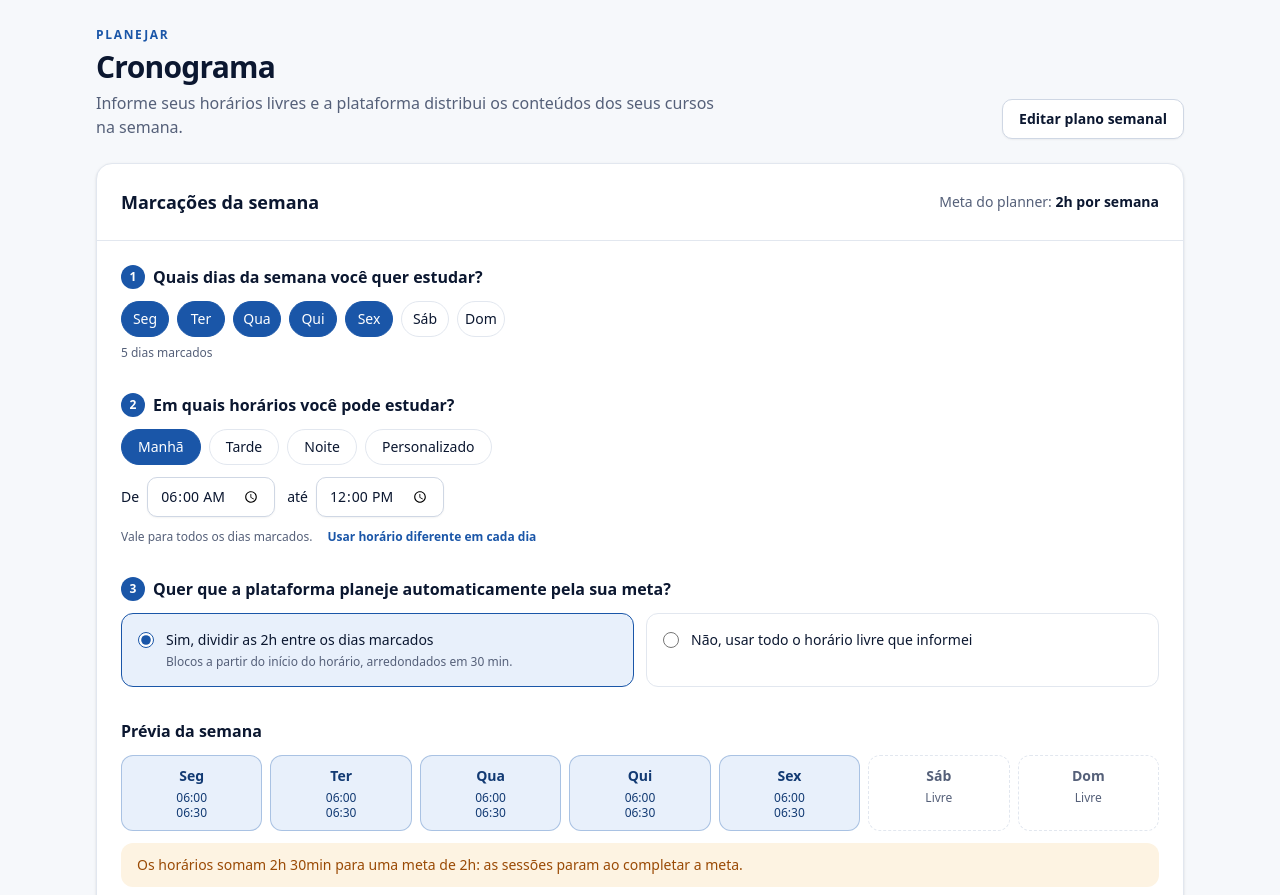
Test case: TelaCronograma › marcacoes: escolhe dias e horario e planeja pela meta
Expected: the heading "Marcações da semana" is shown, x1=121 y1=188 x2=319 y2=216
Expected: the list item with aria-label "Sexta-feira: 06:00 às 06:30" is shown, x1=719 y1=755 x2=860 y2=831
What coordinates should you click on to do the following:
click the button with aria-label "Terça-feira"
I would click on:
 (201, 319)
Its box is x1=177 y1=301 x2=225 y2=337.
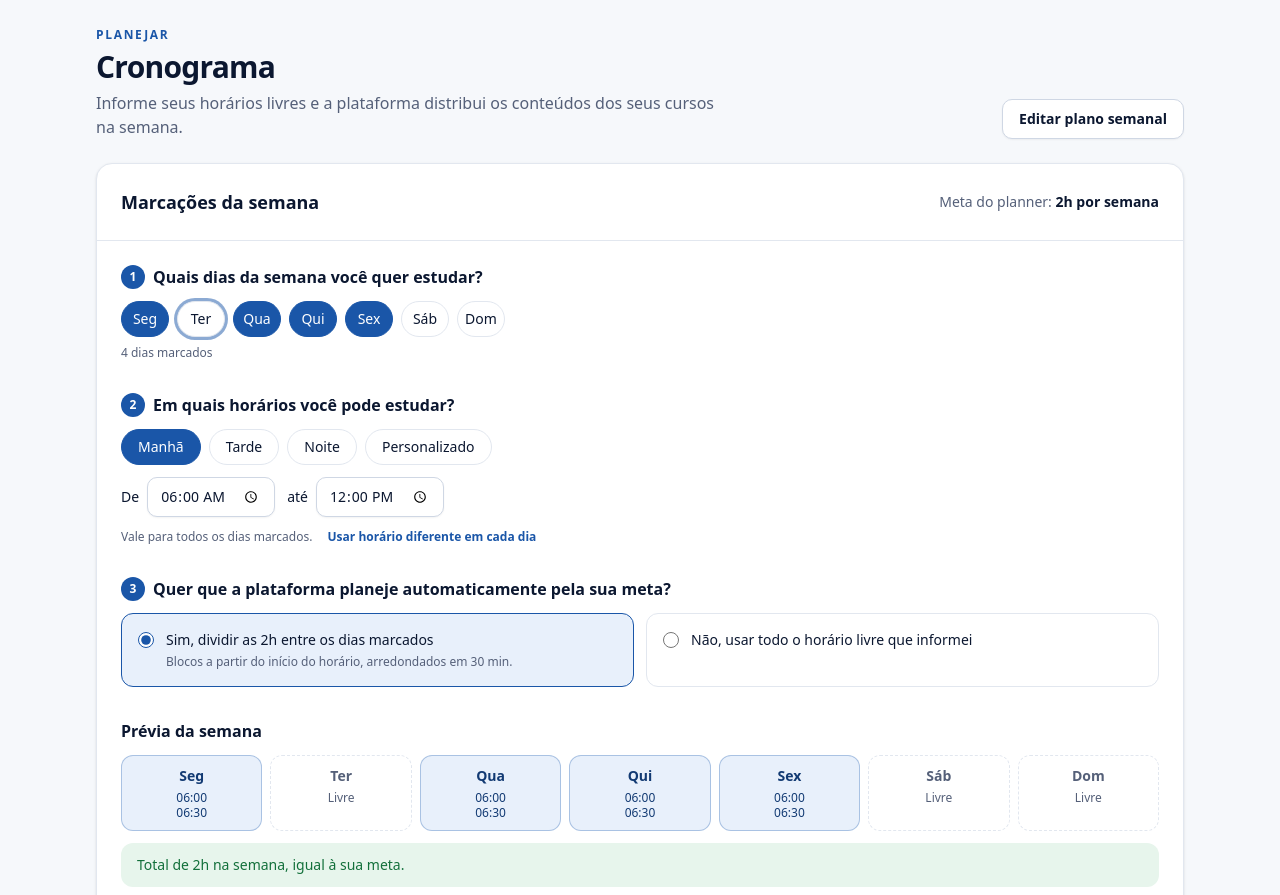
What coordinates should you click on to do the following:
click the button with aria-label "Quarta-feira"
I would click on:
 (257, 319)
Its box is x1=233 y1=301 x2=281 y2=337.
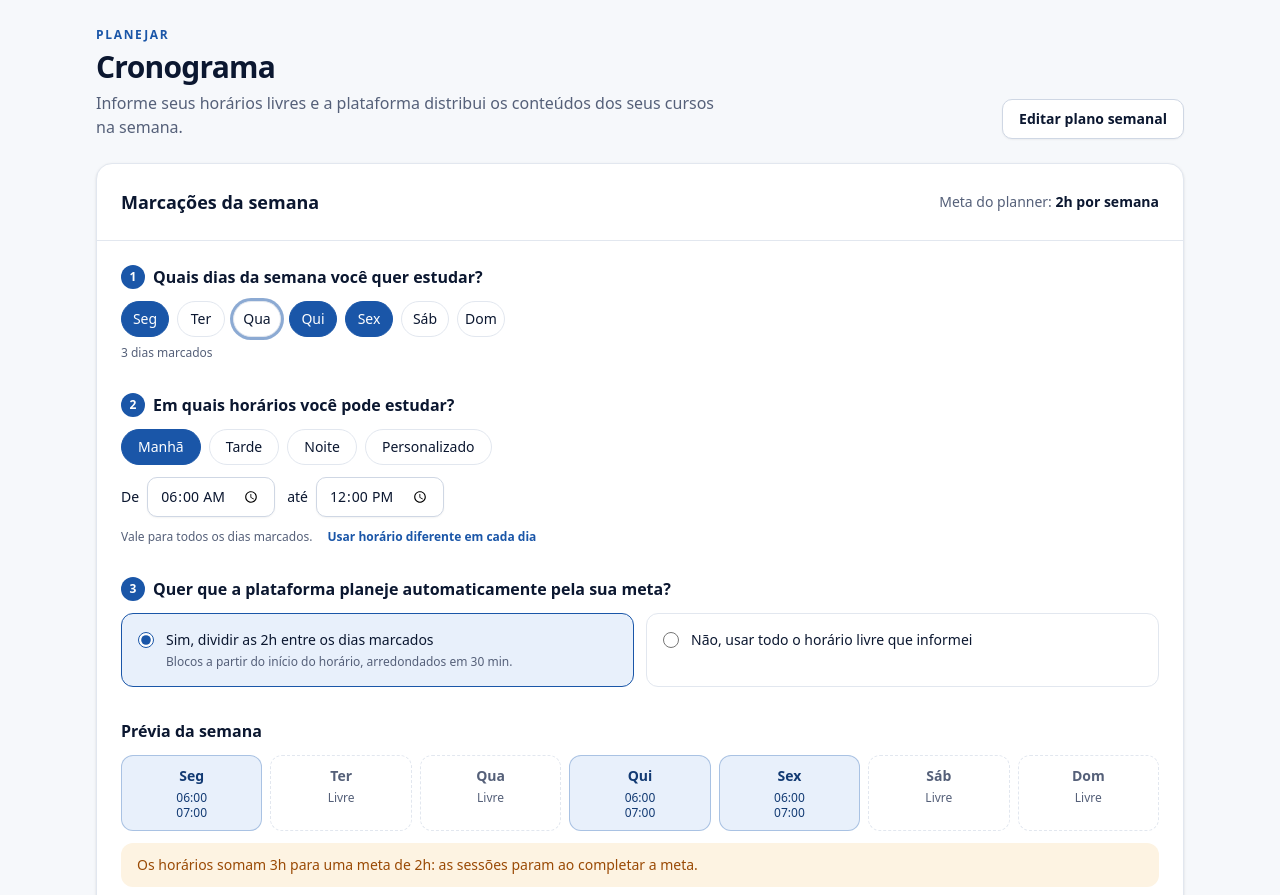
What coordinates should you click on to do the following:
click the button with aria-label "Quinta-feira"
I would click on:
 (313, 319)
Its box is x1=289 y1=301 x2=337 y2=337.
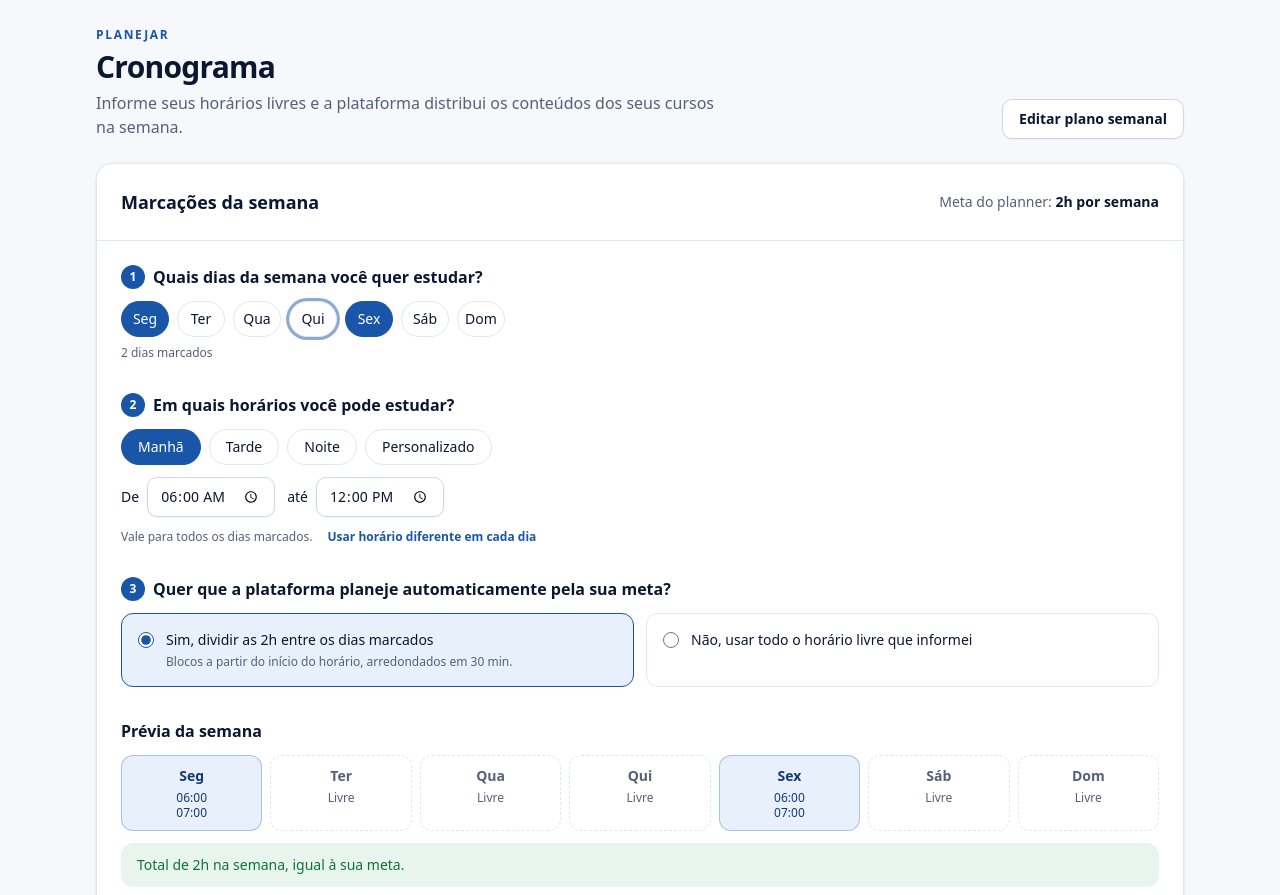
What coordinates should you click on to do the following:
click the button with aria-label "Sexta-feira"
I would click on:
 (369, 319)
Its box is x1=345 y1=301 x2=393 y2=337.
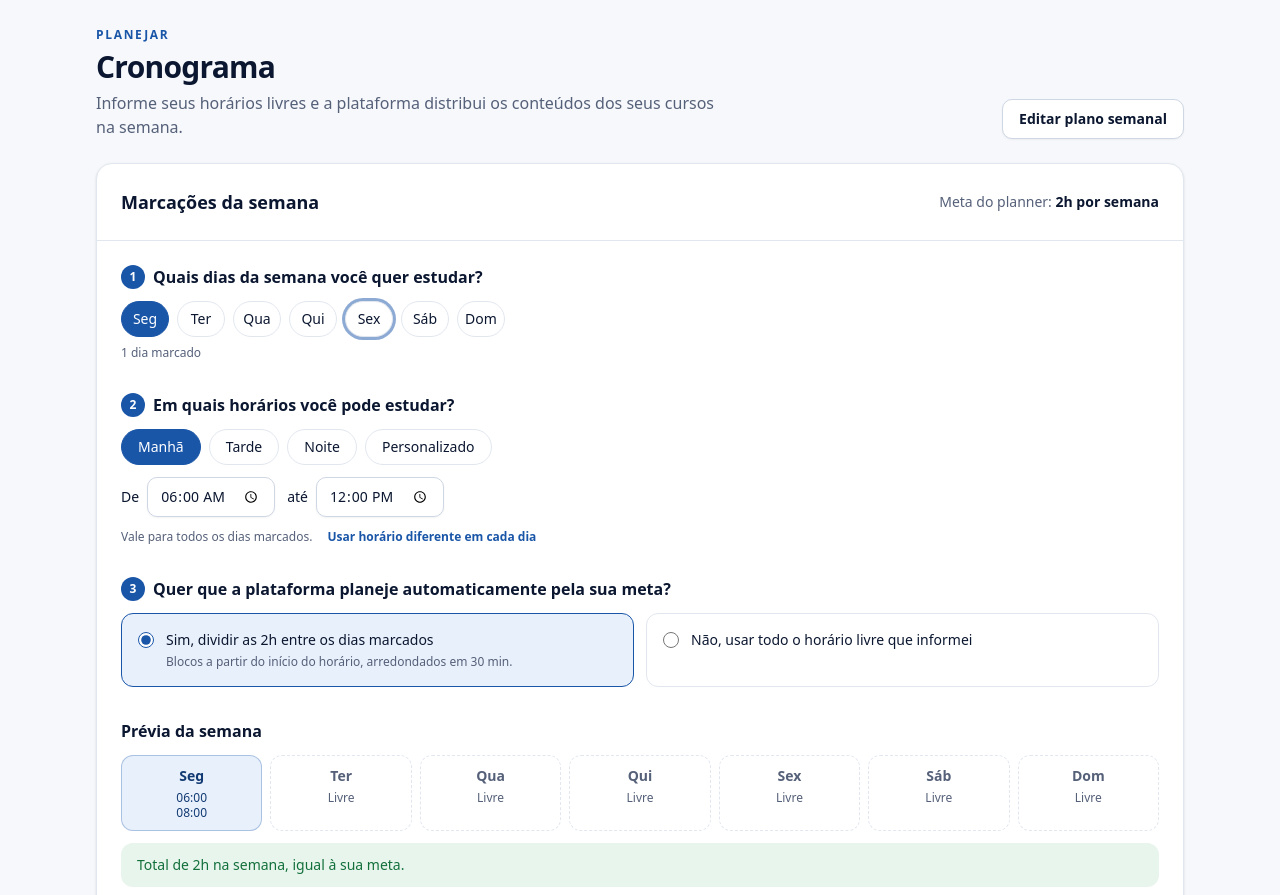
What coordinates should you click on to do the following:
click the button "Noite"
I would click on:
 (322, 447)
Its box is x1=287 y1=429 x2=357 y2=465.
(page scrolled)
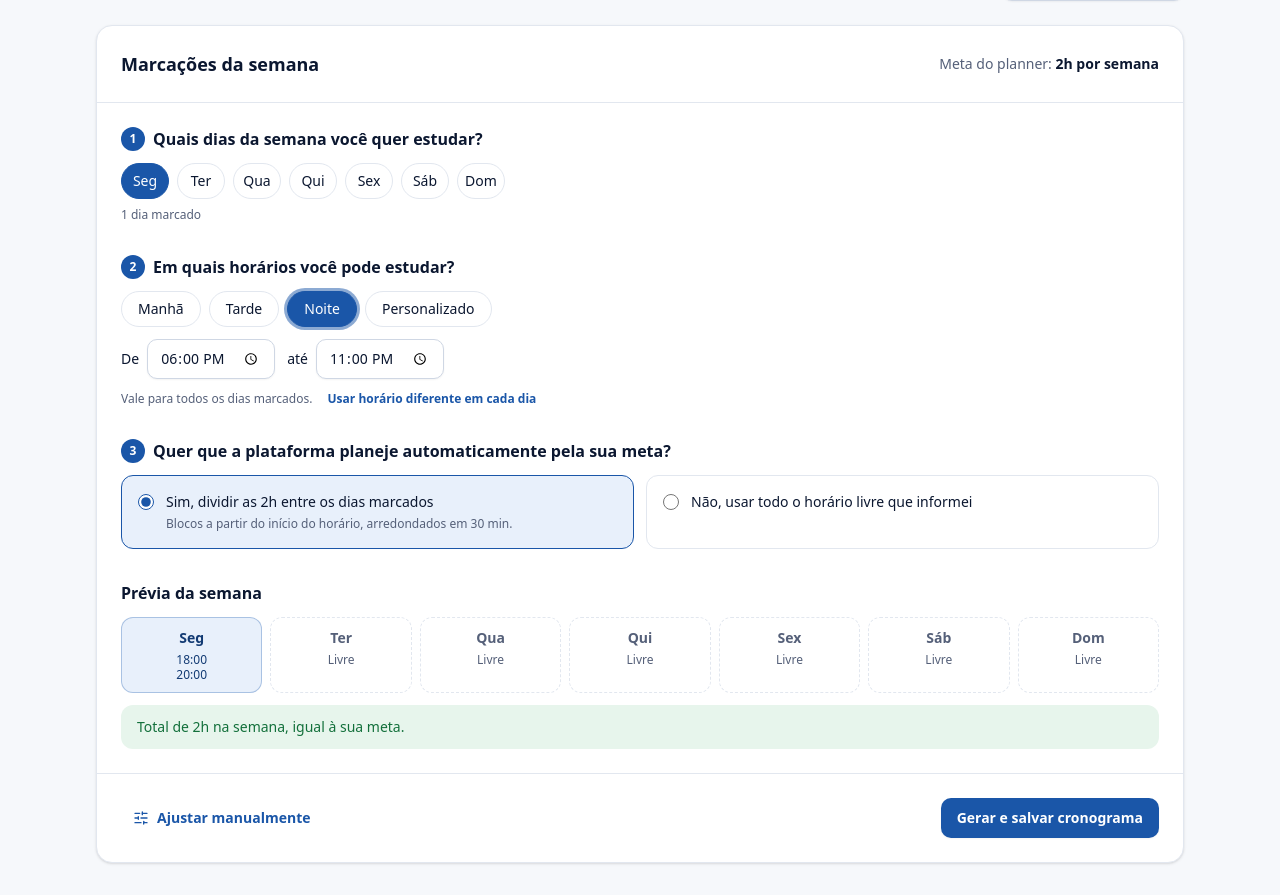
Result: the text "Total de 2h na semana, igual à sua meta." is shown at x1=121 y1=705 x2=1159 y2=749
Result: the list item with aria-label "Segunda-feira: 18:00 às 20:00" is shown at x1=121 y1=617 x2=262 y2=693
What coordinates should you click on to do the following:
click the button "Gerar e salvar cronograma"
I would click on:
 (1050, 818)
Its box is x1=941 y1=798 x2=1159 y2=838.
(page scrolled)
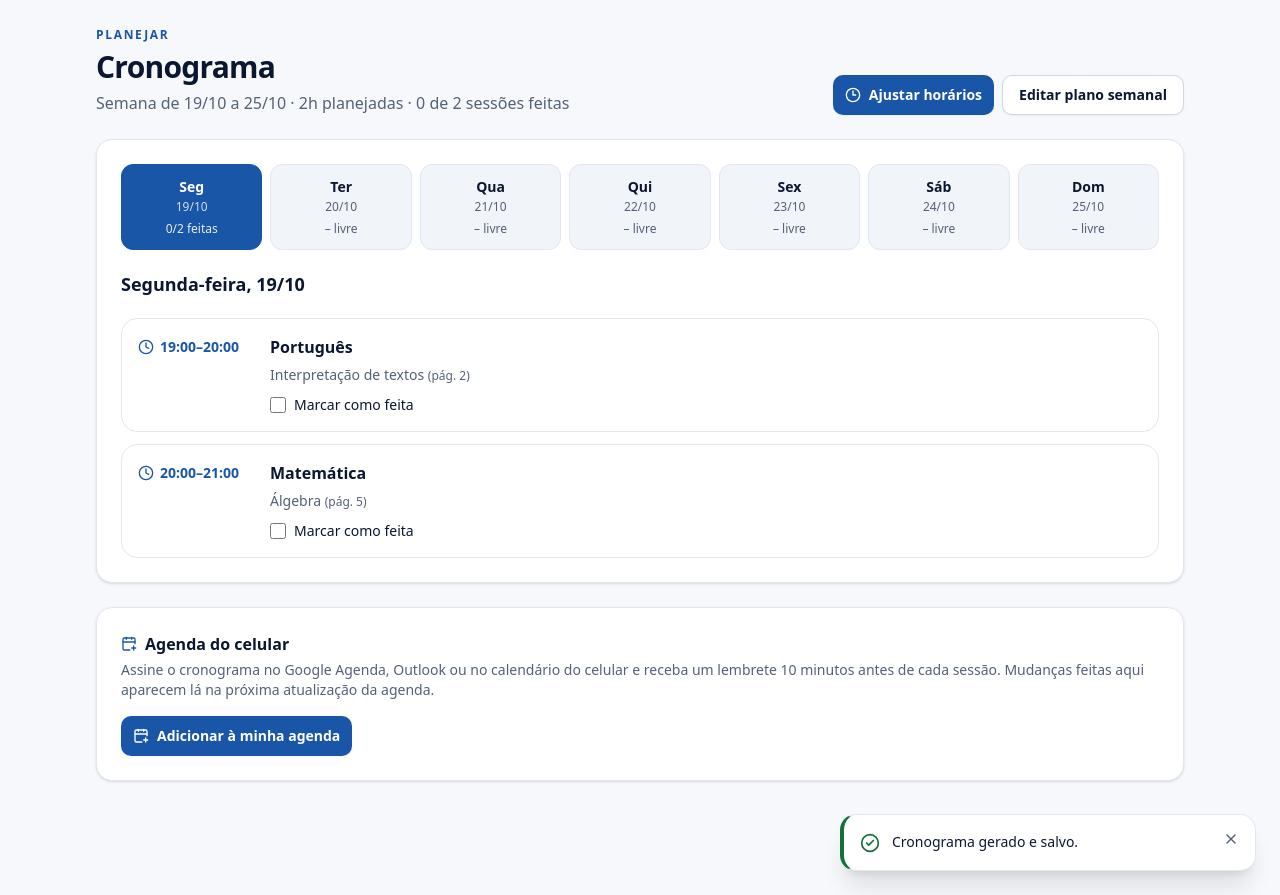
Result: the text "Cronograma gerado e salvo." is shown at x1=892 y1=832 x2=1078 y2=851
Result: the text "19:00–20:00" is shown at x1=138 y1=335 x2=250 y2=357
Result: the text "Português" is shown at x1=270 y1=335 x2=353 y2=359
